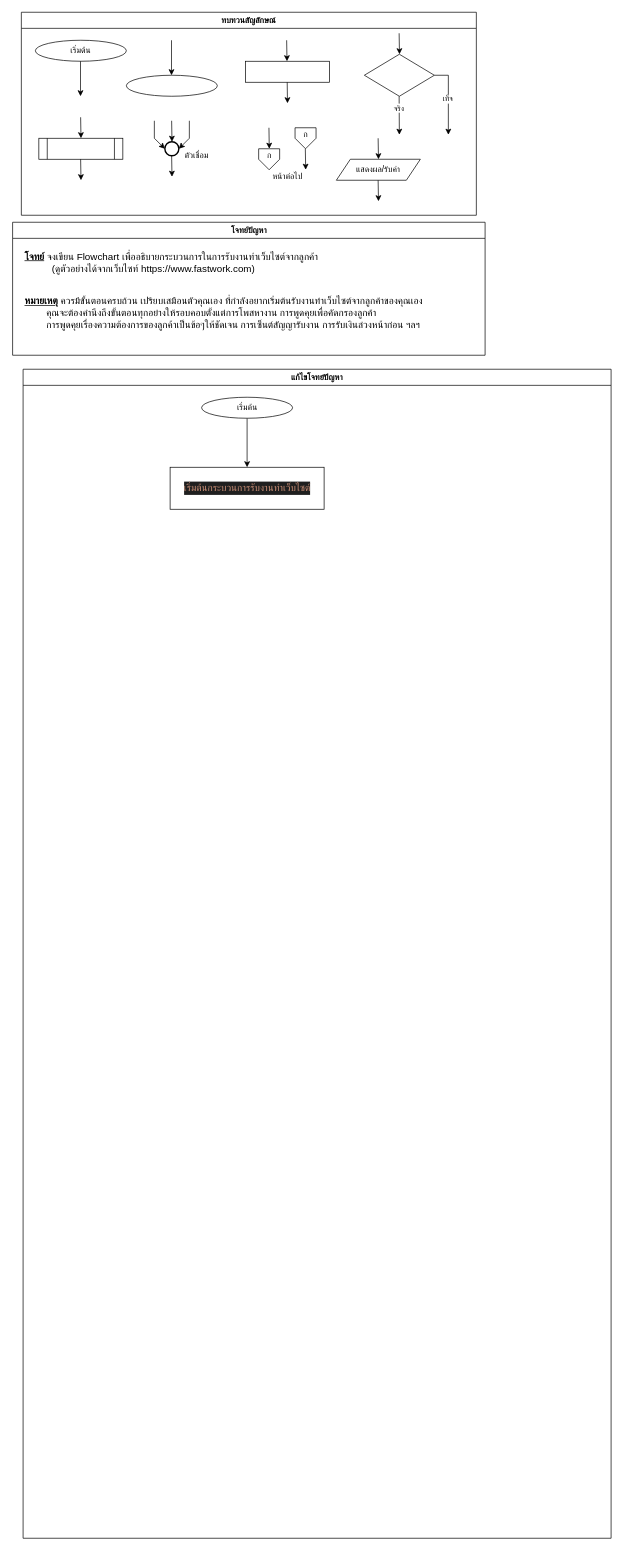
Some shapes in this 623 by 1551 pixel diagram are drawn without their labels. Each missing label, with the centre of its shape:
กระบวนการ: the point at 287,71
ประโยคเงื่อนไข: the point at 399,75
ฟังก์ชัน/โมดูล: the point at 80,148
สิ้นสุด: the point at 171,85
